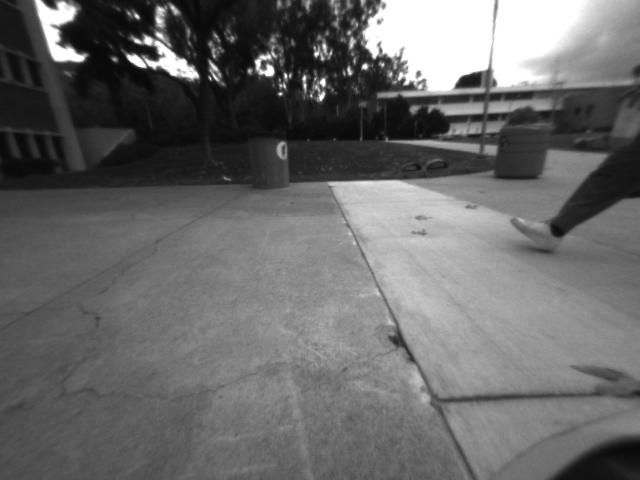trashcan: (496, 121, 551, 183), (249, 131, 295, 195)
